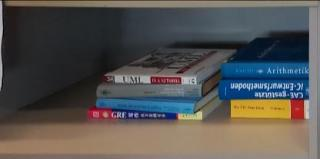book-spine: (218, 79, 309, 100), (95, 98, 196, 114), (231, 100, 309, 119), (222, 62, 309, 79), (88, 109, 203, 121), (97, 84, 203, 97), (103, 75, 197, 84)
